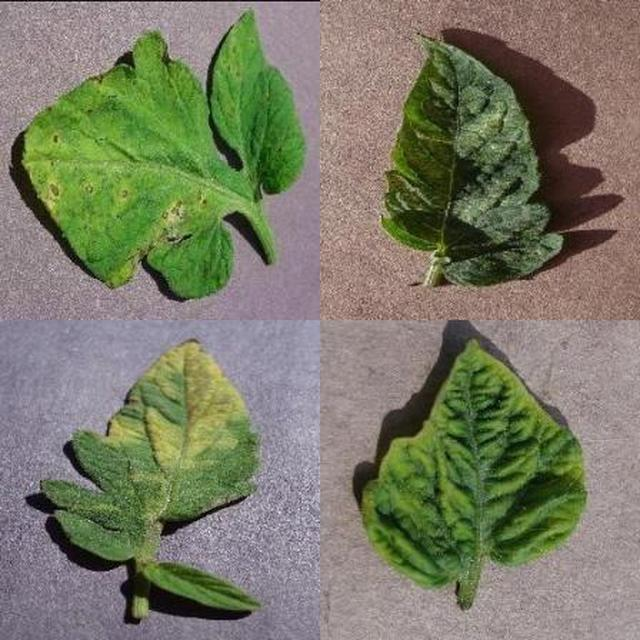Septoria Leaf: (143, 145, 640, 640)
